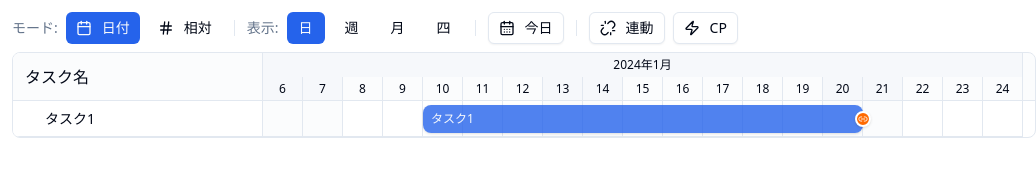
Test case: GanttView › リサイズハンドル › ホバーを外すとリサイズハンドルが非表示になる
Step 1. Hover over the element with test id "gantt-task-bar-0" → (643,119), box [423, 105, 863, 133]
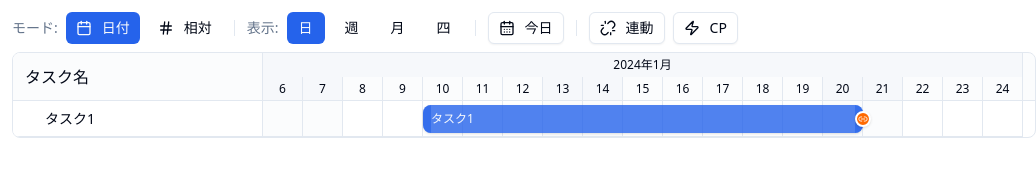
Expected: the element with test id "resize-handle-left-0" is shown, [423, 105, 431, 133]
Step 2. Move the pointer off the element with test id "gantt-task-bar-0", box [423, 105, 863, 133]
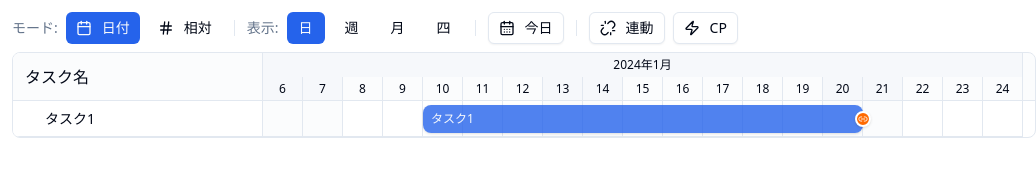
Expected: the element with test id "resize-handle-left-0" is gone
